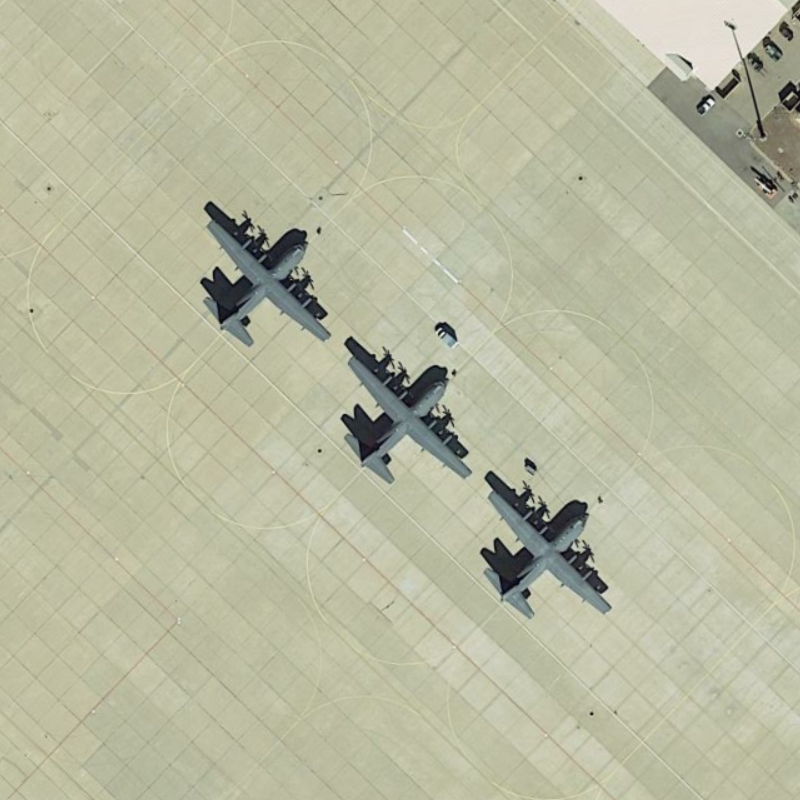A2: (201, 199, 335, 359), (478, 478, 614, 632), (338, 344, 471, 486)
